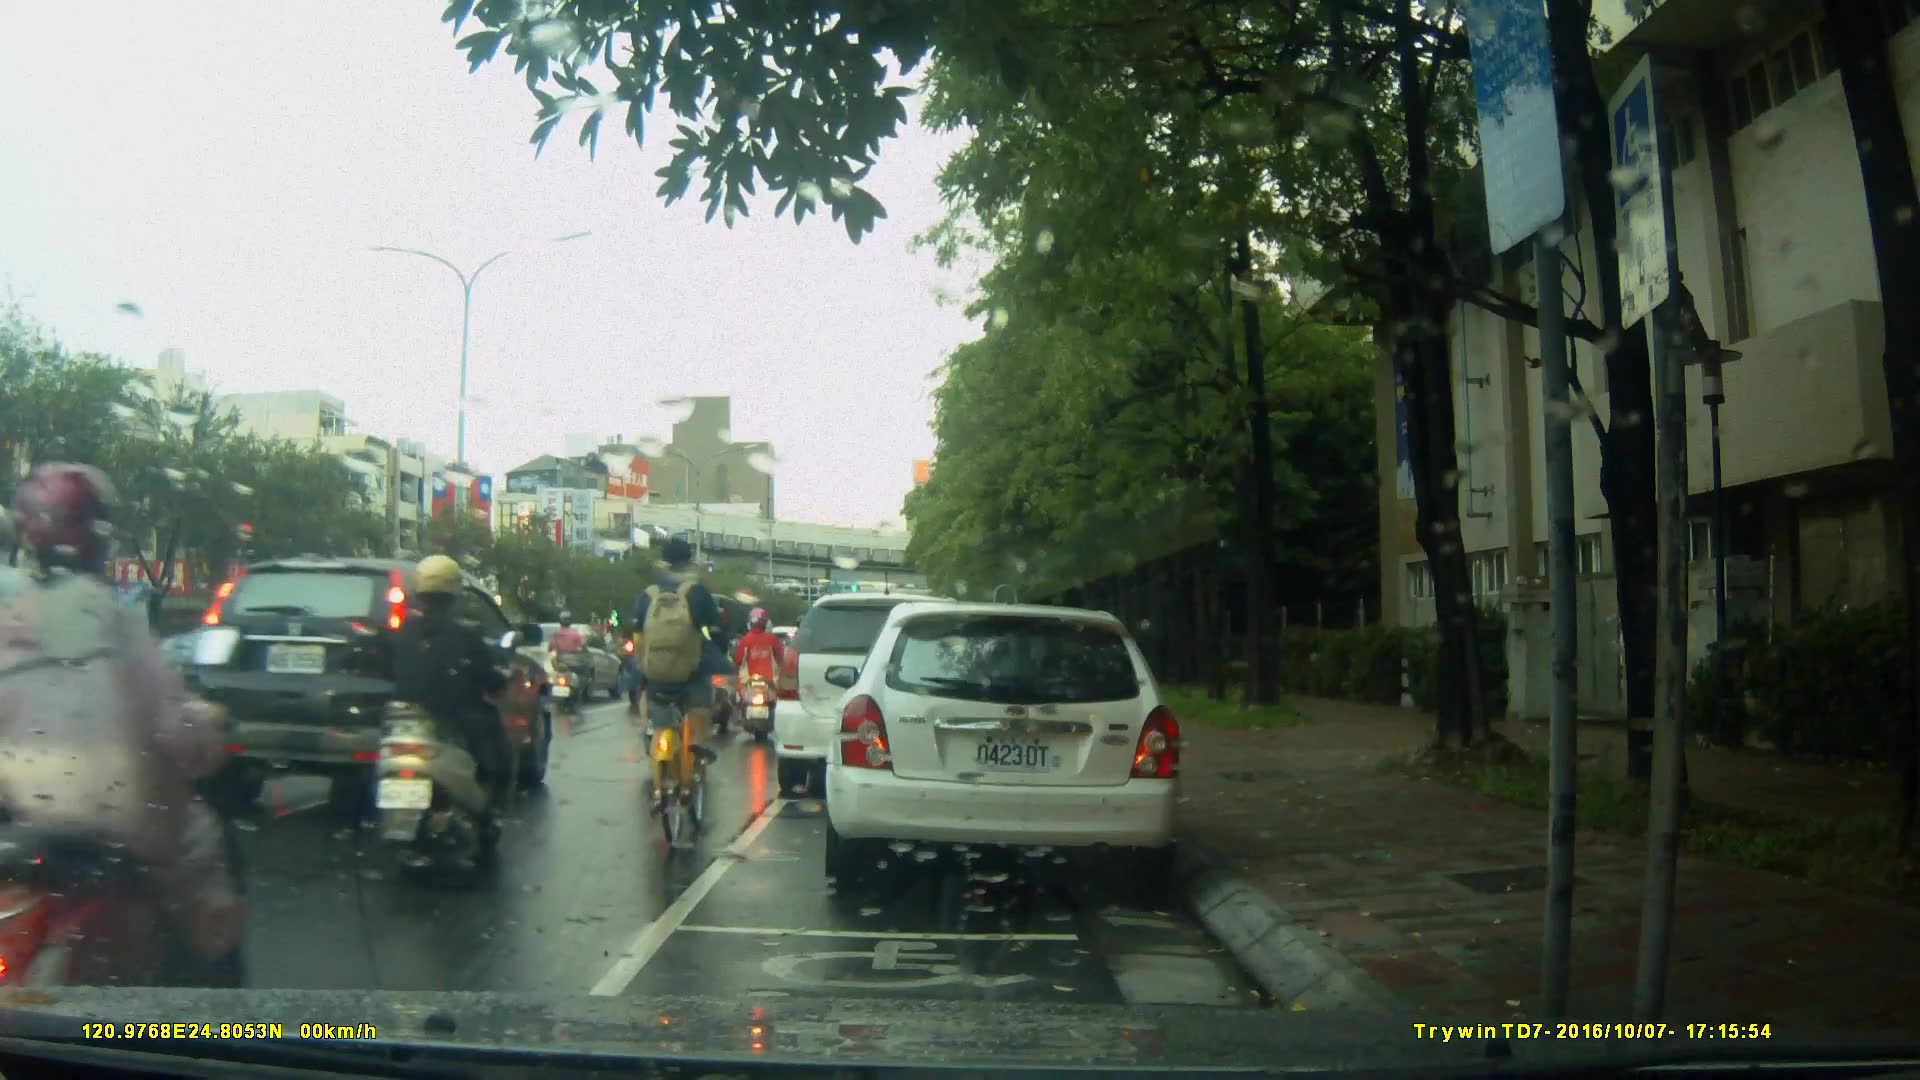rider: (1, 456, 273, 1080), (373, 557, 519, 871), (635, 532, 718, 853), (728, 605, 793, 743), (549, 613, 594, 715)
vehicle: (822, 604, 1188, 883), (191, 553, 557, 821), (774, 595, 995, 802)
